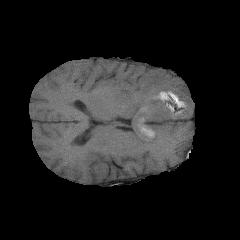glioma: (111, 68, 190, 143)
